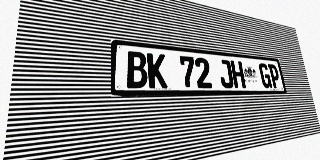2: (194, 57, 212, 88)
7: (178, 56, 197, 88)
B: (126, 51, 148, 88)
G: (258, 63, 272, 88)
H: (230, 60, 246, 88)
J: (218, 59, 234, 88)
K: (147, 53, 168, 88)
P: (268, 64, 281, 88)
